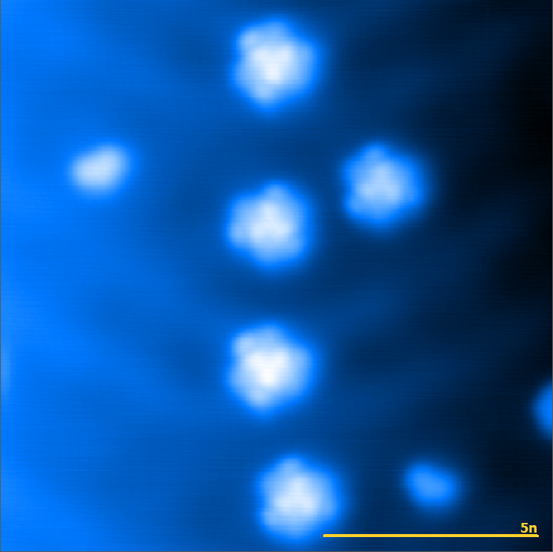R: (226, 15, 327, 110), (224, 179, 319, 275), (224, 320, 316, 413)
S: (340, 141, 429, 233), (255, 454, 342, 544)
